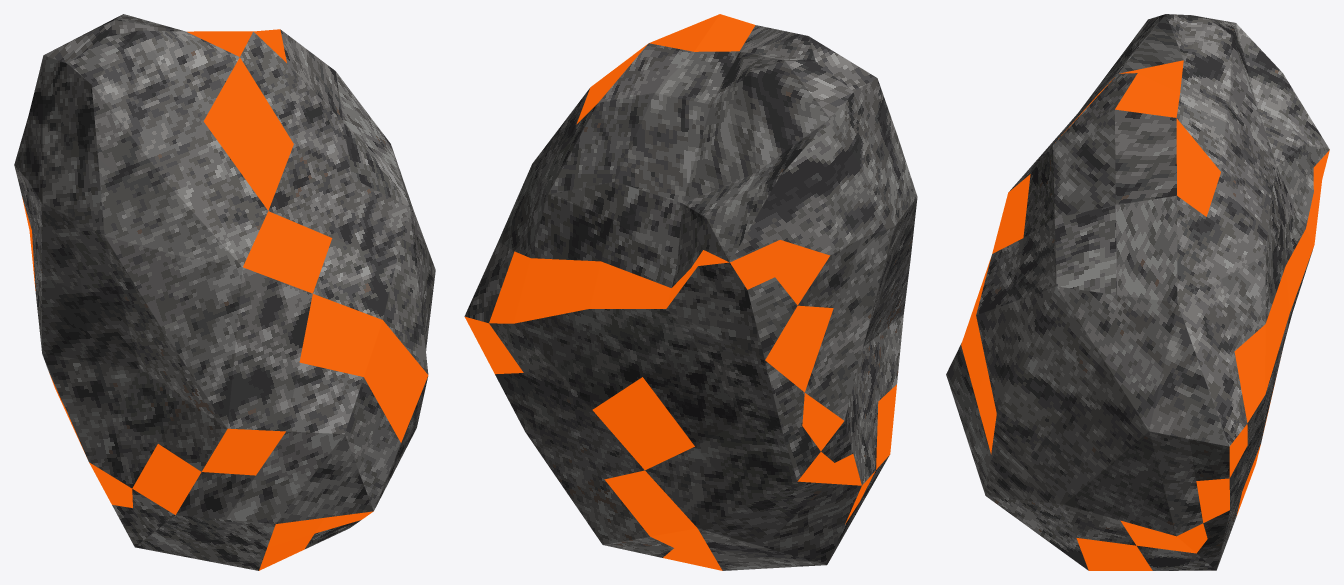
The model's file is mineral_rock_EMIS.glb.
3 renders of one model, left to right at view 1: azimuth 30°, elevation 25°; view 2: azimuth 150°, elevation 25°; view 3: azimuth 270°, elevation 25°, orthographic. The views are drawn at different scales.
Visible parts, largest first — view 1: Icosphere.001; view 2: Icosphere.001; view 3: Icosphere.001.
Part boxes in pixels (bbox=[...]): Icosphere.001: bbox=[14, 14, 435, 570]; Icosphere.001: bbox=[464, 14, 917, 570]; Icosphere.001: bbox=[946, 14, 1329, 570].
Bounding box in the file's own units: 2.02 × 2.71 × 1.86.
2 materials, 1 textured.
